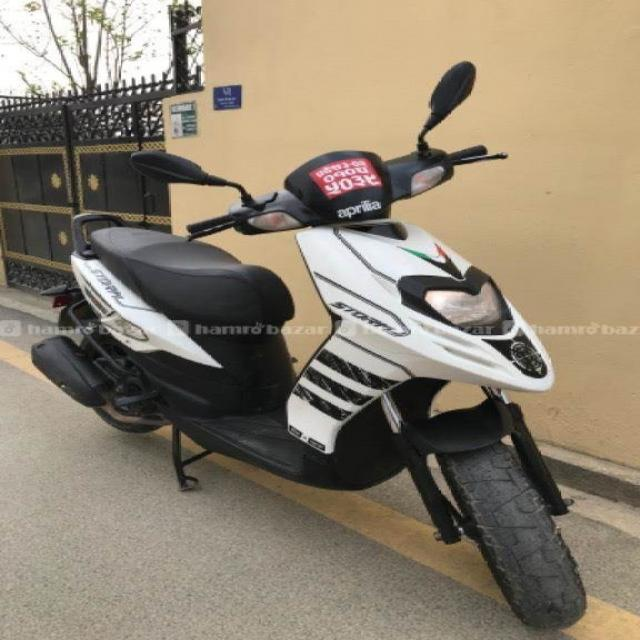License-plate: (304, 156, 386, 196)
